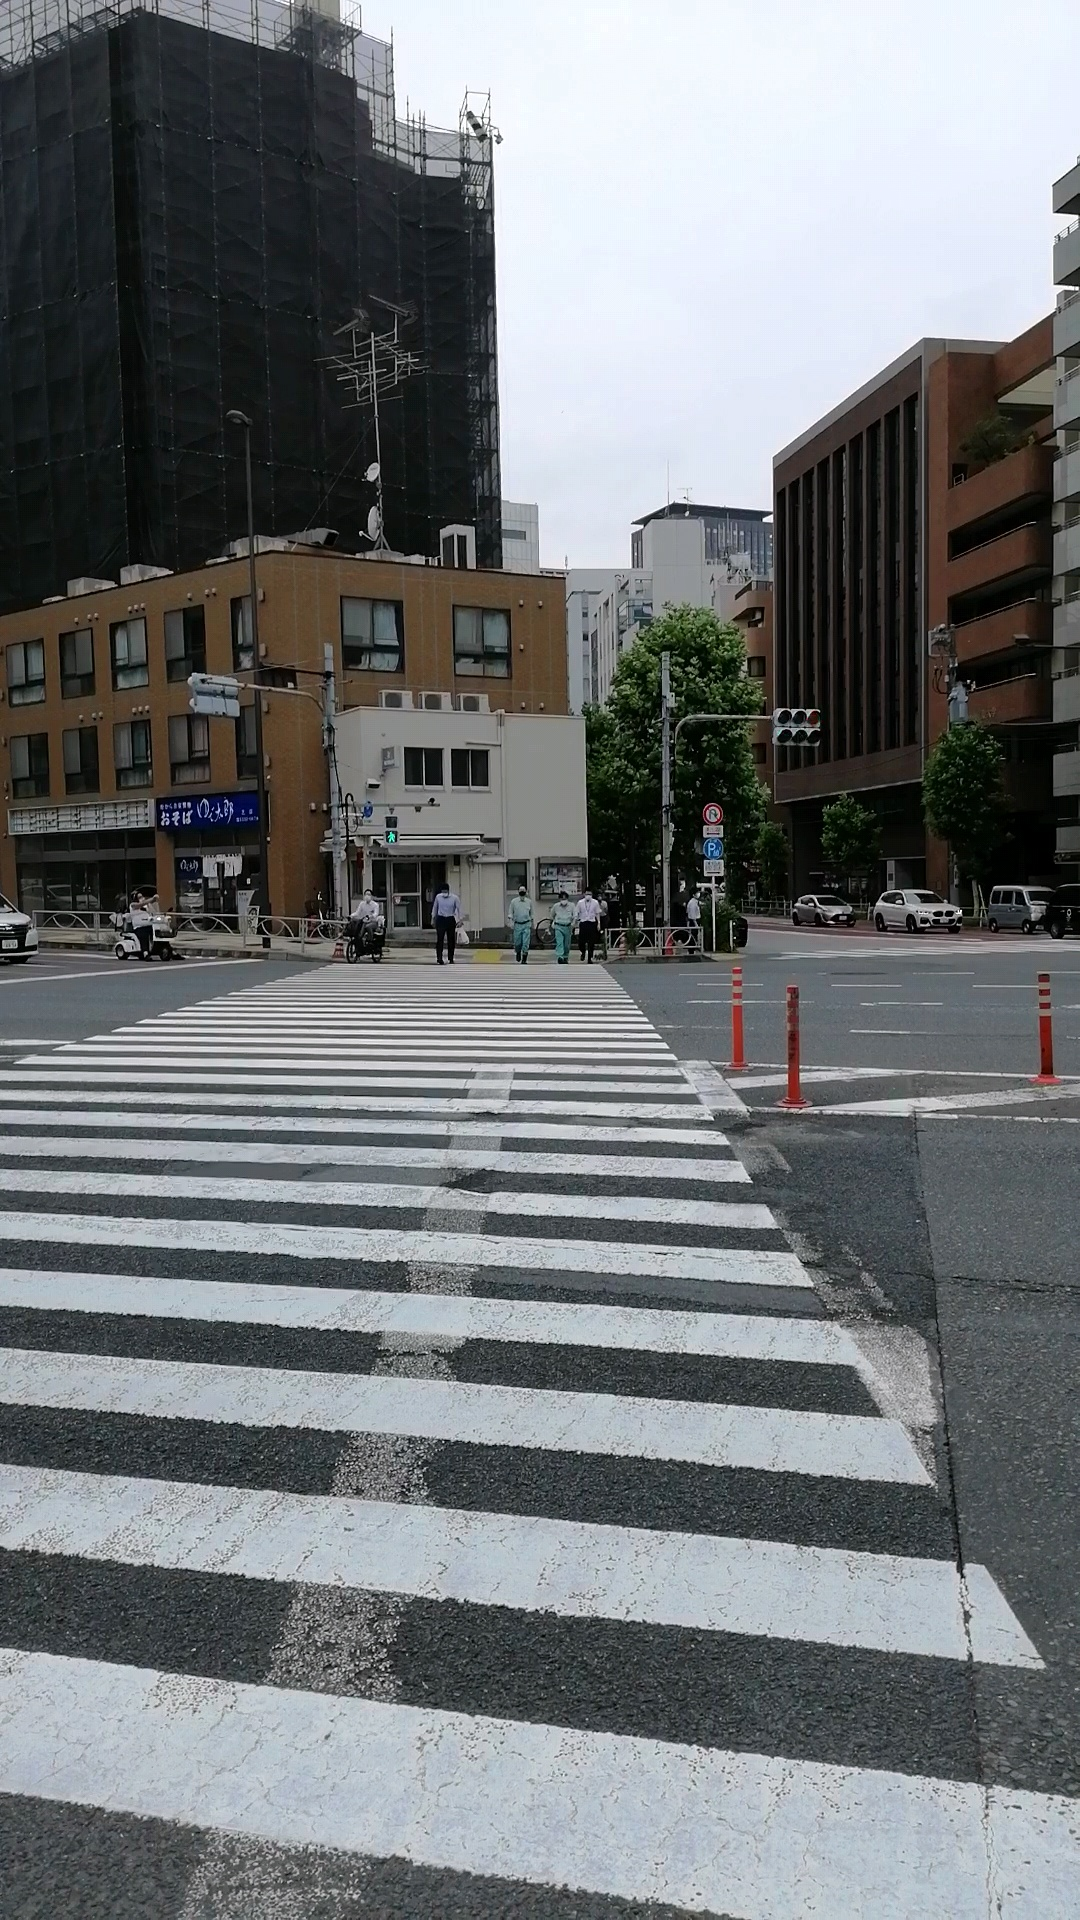green: (382, 814, 400, 847)
